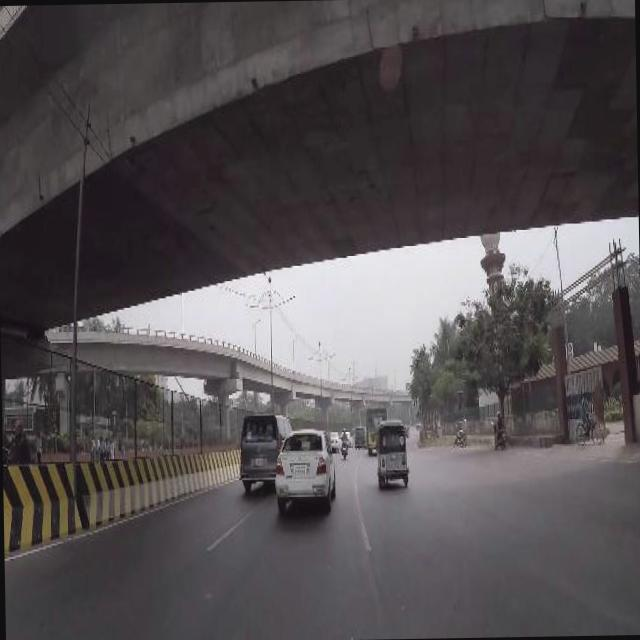bus: (366, 403, 388, 447)
car: (277, 428, 335, 506), (330, 430, 341, 450), (341, 428, 354, 444)
motorcycle: (376, 419, 411, 488), (492, 422, 509, 445), (454, 426, 467, 444), (342, 424, 348, 458)
truck: (239, 412, 293, 488), (356, 424, 367, 448)
